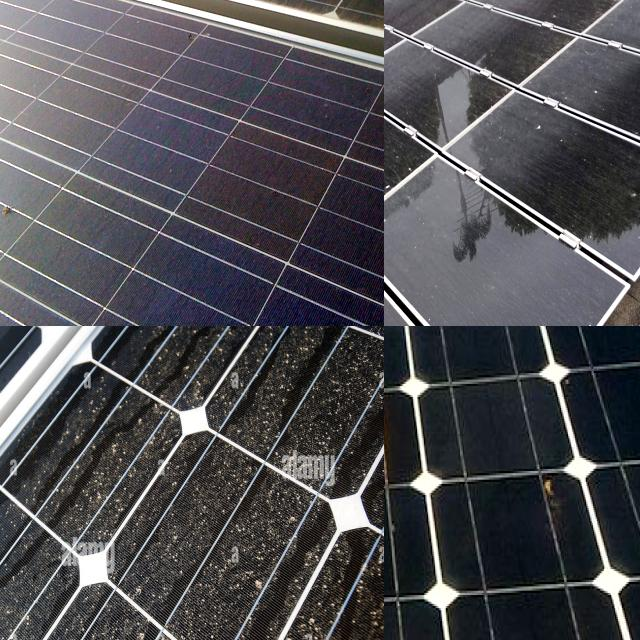dust: (490, 148, 639, 326), (152, 463, 268, 629), (253, 326, 369, 465), (44, 415, 148, 539), (384, 62, 447, 258), (384, 188, 474, 305), (384, 0, 503, 77), (511, 102, 640, 150), (560, 0, 640, 74), (0, 523, 43, 640), (384, 83, 412, 172)
shadow: (384, 506, 478, 614), (384, 378, 457, 498)
